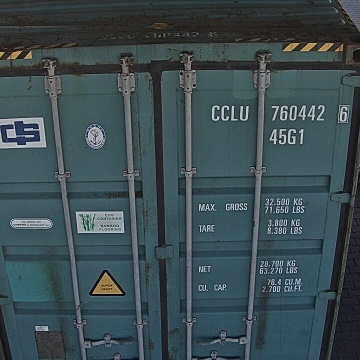serial_id: (211, 105, 349, 121)
